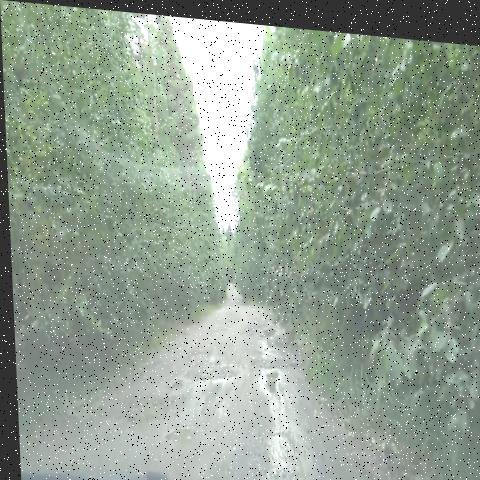pothole: (171, 334, 252, 399), (103, 392, 169, 437), (240, 455, 341, 480), (253, 346, 289, 405), (155, 410, 201, 454), (247, 306, 286, 352)
